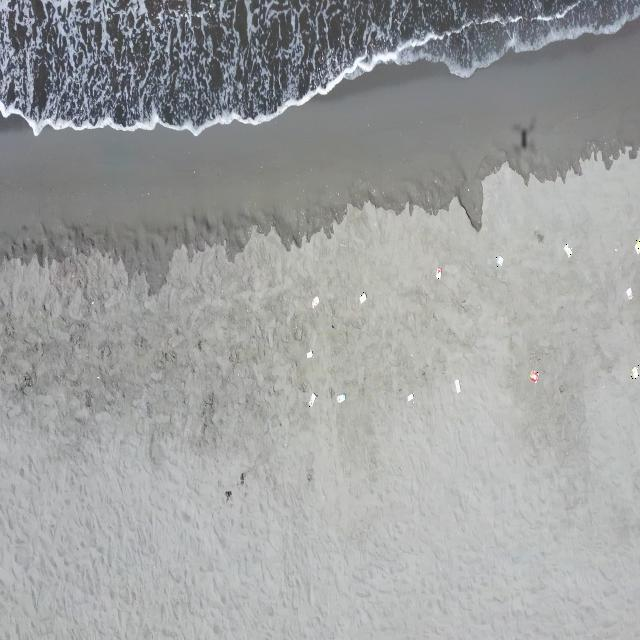Garbage: (528, 369, 539, 383), (307, 393, 316, 407), (564, 243, 571, 256), (631, 366, 639, 377), (311, 296, 319, 307), (626, 287, 632, 300), (453, 379, 459, 392), (495, 256, 502, 267), (359, 292, 366, 303), (224, 489, 231, 500), (336, 393, 344, 402), (435, 267, 440, 279), (635, 239, 639, 253), (407, 392, 412, 400), (307, 351, 312, 357), (613, 247, 616, 252)
